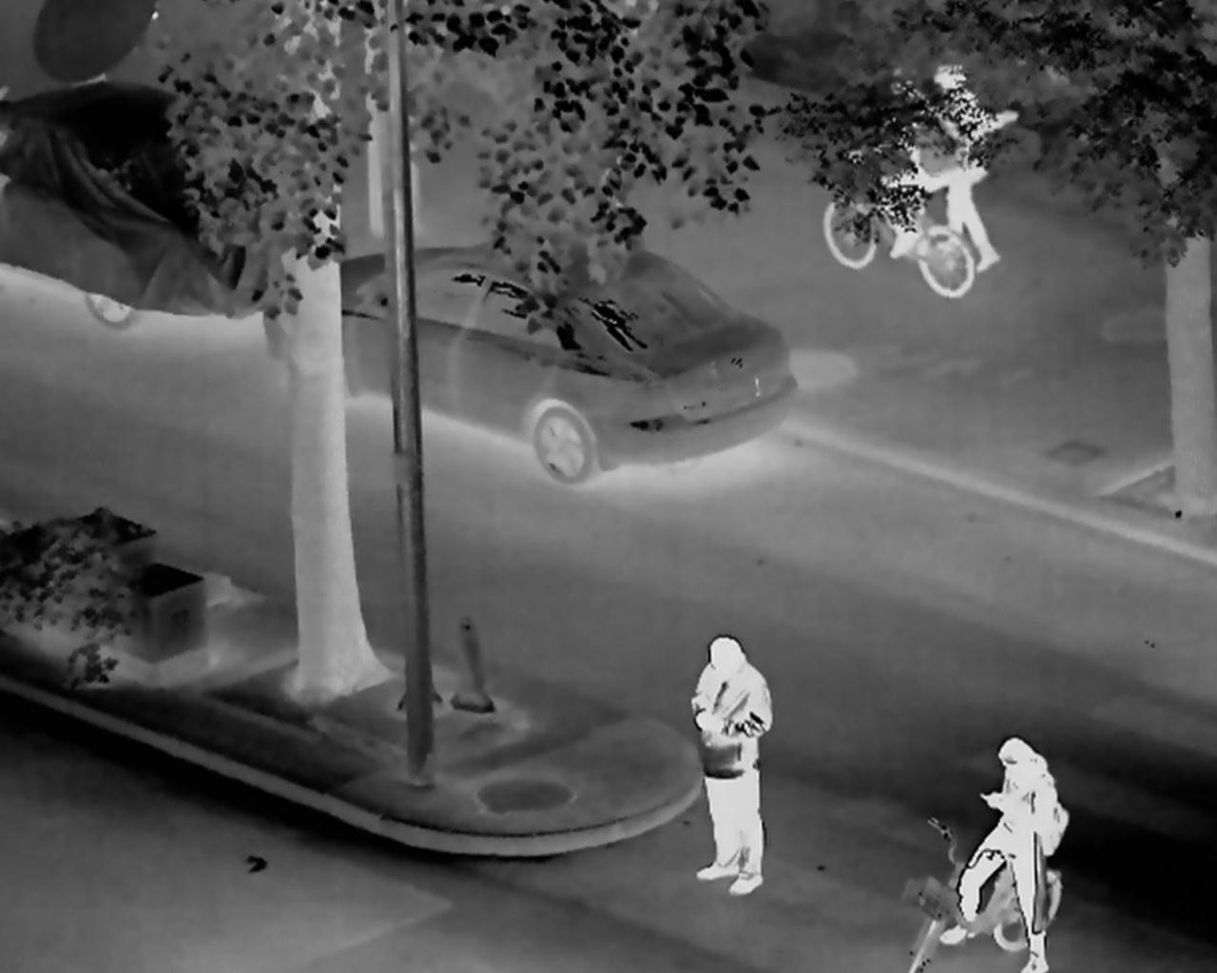person: (939, 735, 1059, 973), (689, 637, 772, 894), (923, 63, 1004, 273), (865, 74, 948, 262)
